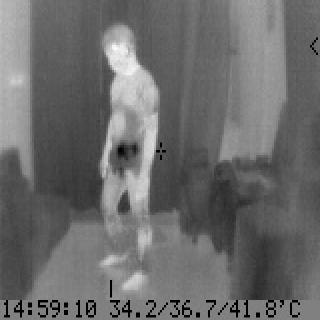Gun: (116, 140, 140, 180)
